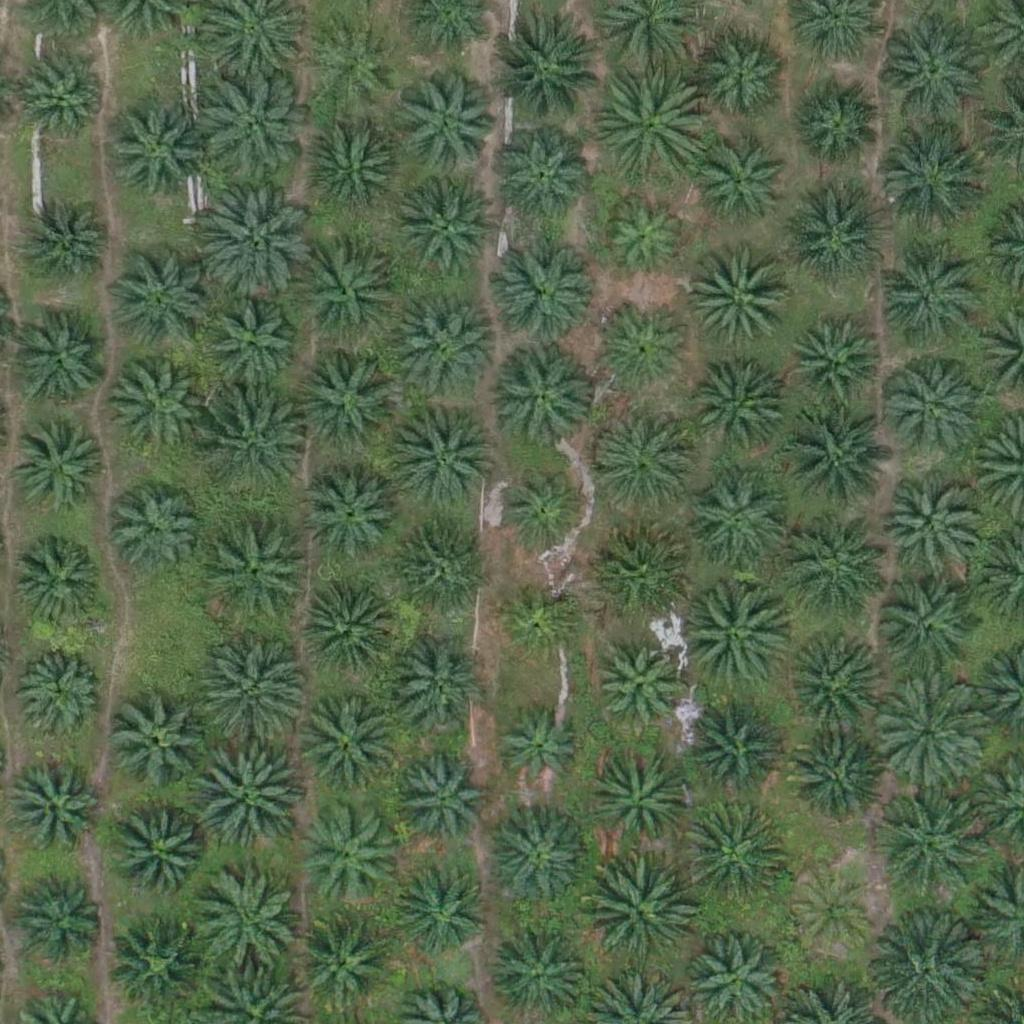Kelapa_Sawit: (196, 386, 309, 500), (200, 522, 313, 636), (489, 20, 602, 134), (871, 119, 984, 233), (870, 790, 983, 904), (195, 189, 308, 302), (193, 634, 306, 747), (293, 235, 406, 348), (671, 576, 784, 689), (870, 14, 983, 127), (581, 857, 694, 970), (190, 870, 303, 983), (196, 741, 309, 854), (599, 72, 711, 186), (878, 231, 990, 345), (201, 76, 313, 189), (293, 345, 405, 458), (391, 288, 503, 401), (387, 403, 499, 516), (591, 403, 703, 516), (780, 403, 892, 516), (871, 675, 983, 788), (679, 799, 791, 912), (8, 420, 108, 521), (108, 691, 208, 792), (103, 484, 203, 585), (106, 359, 206, 460), (114, 251, 214, 352), (108, 101, 208, 202), (199, 298, 299, 399), (304, 579, 404, 680), (304, 462, 404, 563), (302, 117, 402, 218), (393, 182, 493, 283), (388, 526, 488, 627), (393, 635, 493, 736), (491, 346, 591, 447), (603, 522, 703, 623), (686, 257, 786, 358), (685, 469, 785, 570), (676, 698, 776, 799), (779, 629, 879, 730), (789, 529, 889, 630), (785, 184, 885, 285), (883, 356, 983, 457), (880, 472, 980, 573), (588, 750, 688, 851), (486, 810, 586, 911), (296, 800, 396, 901), (293, 910, 393, 1011), (19, 197, 119, 297), (12, 313, 112, 413), (12, 534, 112, 634), (300, 693, 400, 793), (404, 75, 504, 175), (491, 123, 591, 223), (493, 244, 593, 344), (691, 355, 791, 455), (873, 579, 973, 679), (780, 726, 880, 826), (110, 801, 210, 901), (110, 915, 210, 1015), (13, 866, 113, 966), (5, 757, 105, 857), (15, 644, 103, 732), (497, 574, 585, 662), (497, 461, 585, 549), (592, 642, 680, 730), (606, 194, 694, 282), (789, 869, 877, 957), (396, 868, 484, 956), (395, 759, 483, 847), (23, 52, 110, 141), (310, 23, 397, 112), (492, 706, 579, 794), (601, 305, 688, 393), (695, 33, 782, 121), (699, 140, 786, 228), (790, 314, 877, 402), (793, 75, 880, 163)
